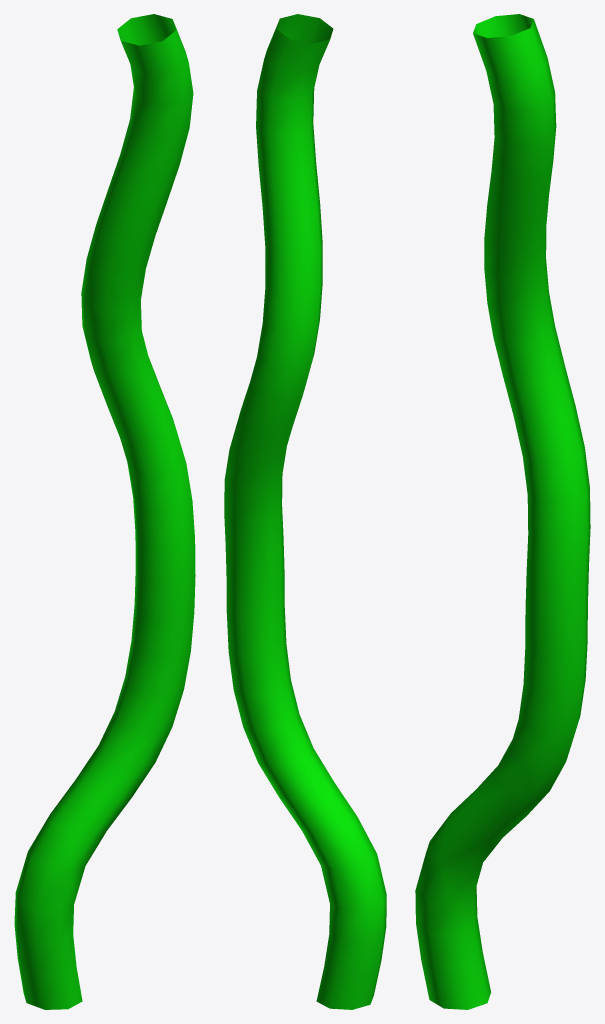
Rendered from Wire3Unit.fbx.
3 renders of one model, left to right at view 1: azimuth 30°, elevation 25°; view 2: azimuth 150°, elevation 25°; view 3: azimuth 330°, elevation 25°, orthographic. The views are drawn at different scales.
Visible parts, largest first — view 1: Wire3; view 2: Wire3; view 3: Wire3.
Boxes of the visible parts, x1=… form: Wire3: x1=14, y1=14, x2=195, y2=1009; Wire3: x1=224, y1=14, x2=386, y2=1009; Wire3: x1=415, y1=14, x2=590, y2=1009.
Size of the model in its own units: 0.0772 by 0.43 by 0.0471.
